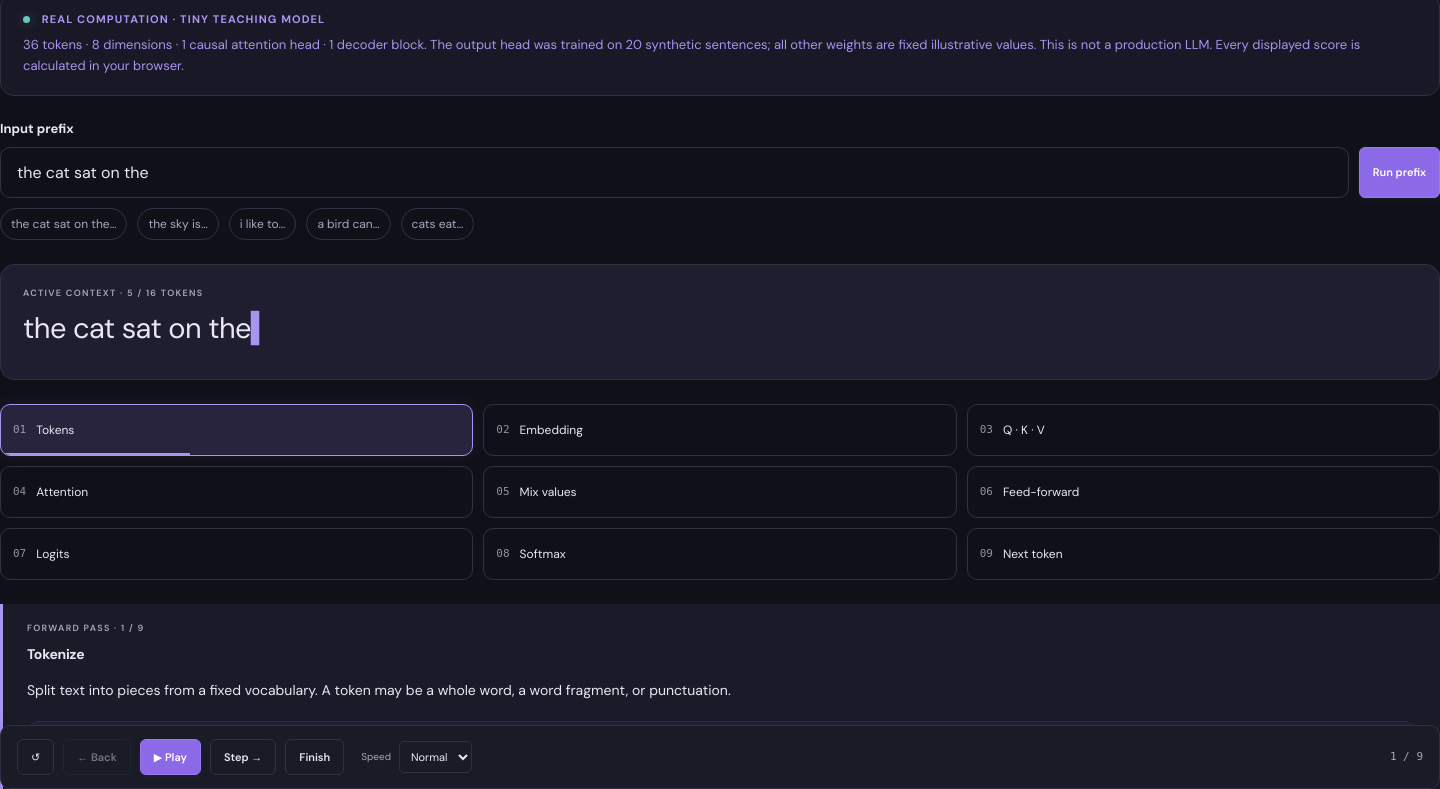
Scenario: prediction finishes, keeps decoding controls visible when changed, appends and restarts
Click the button "Finish".
click(315, 757)  # box [285,739,344,775]
(page scrolled)
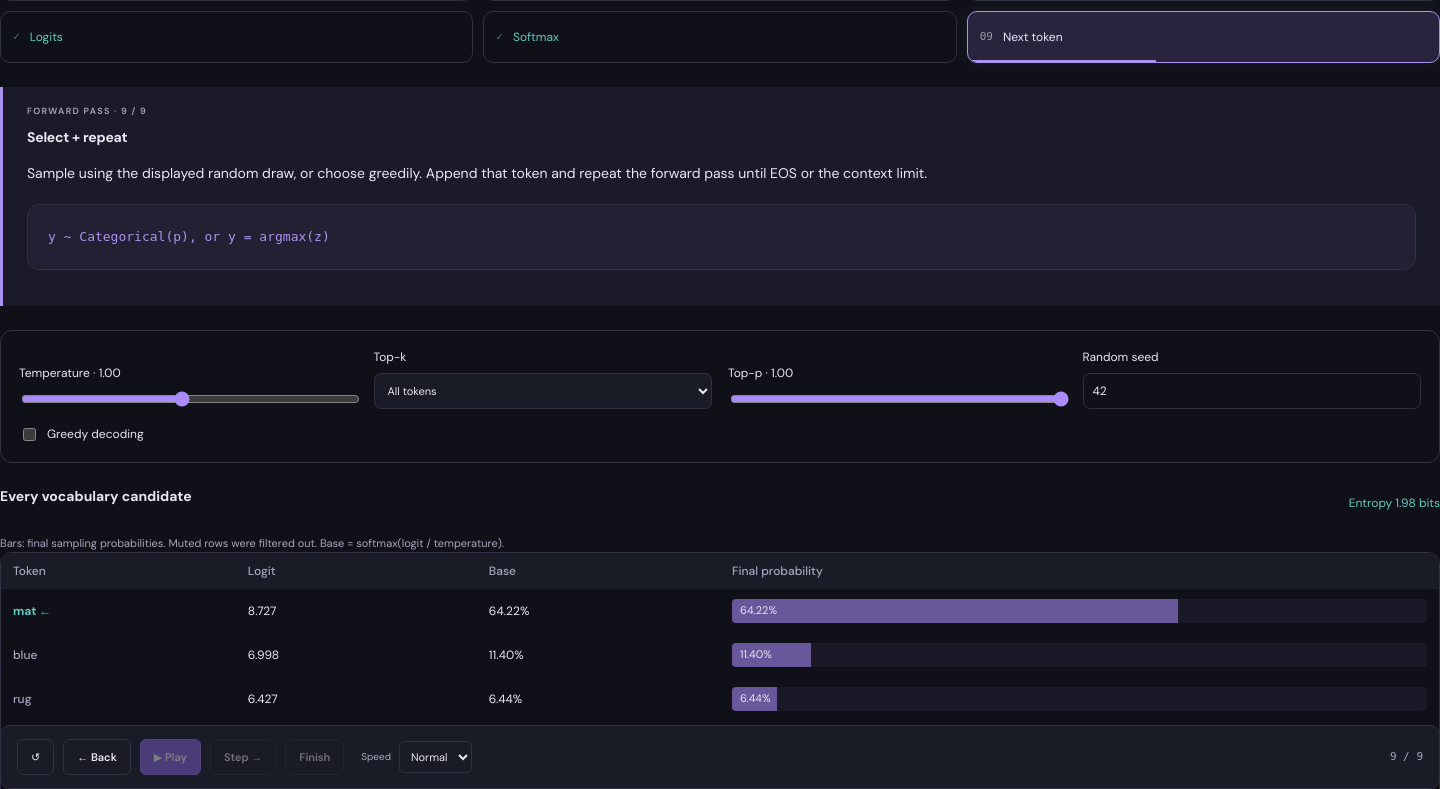
Set the slider labelled "Temperature" to "0.5" at (97, 399), box [21,391,360,407]
(page scrolled)
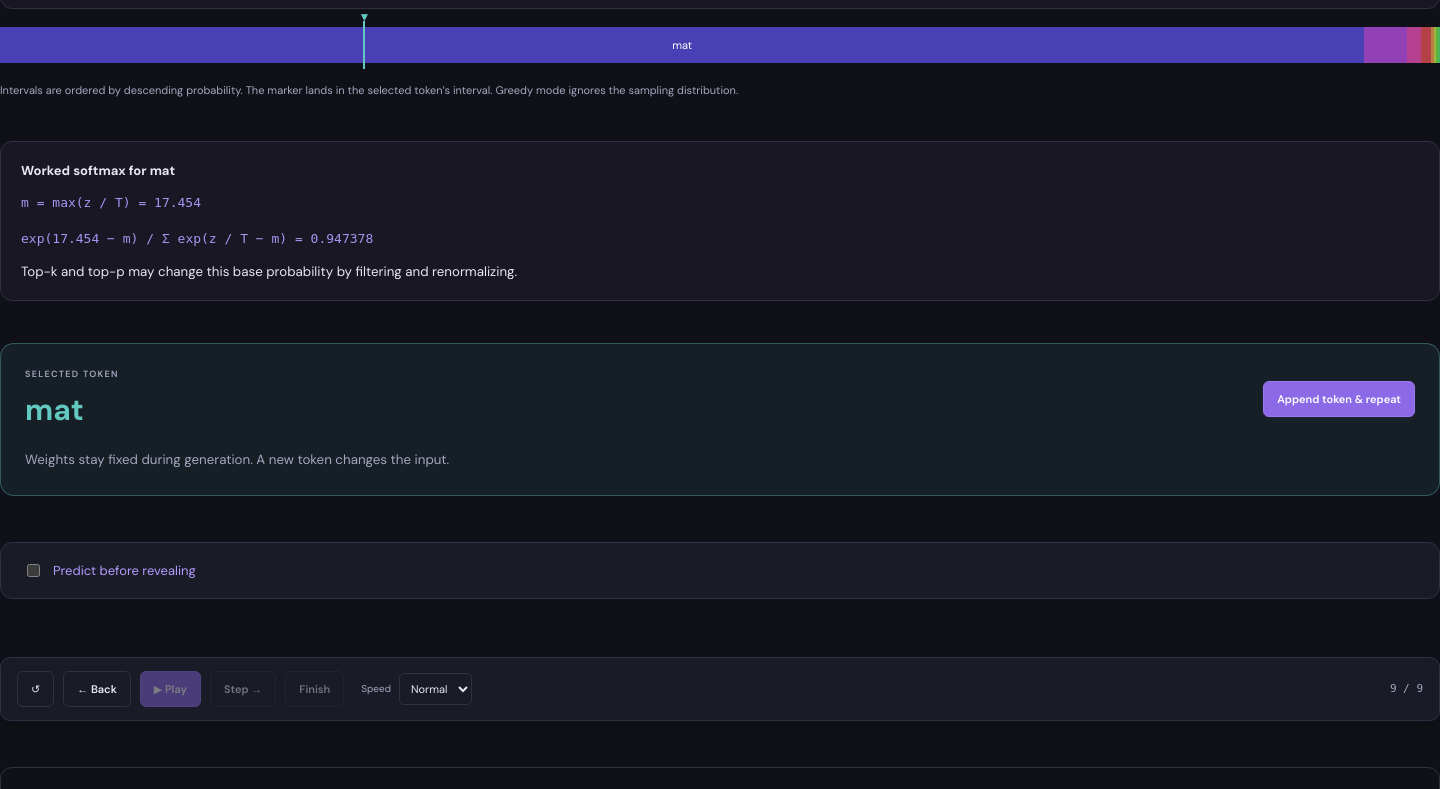
Click the button "Append token & repeat".
click(1339, 399)  # box [1263,381,1415,417]
(page scrolled)
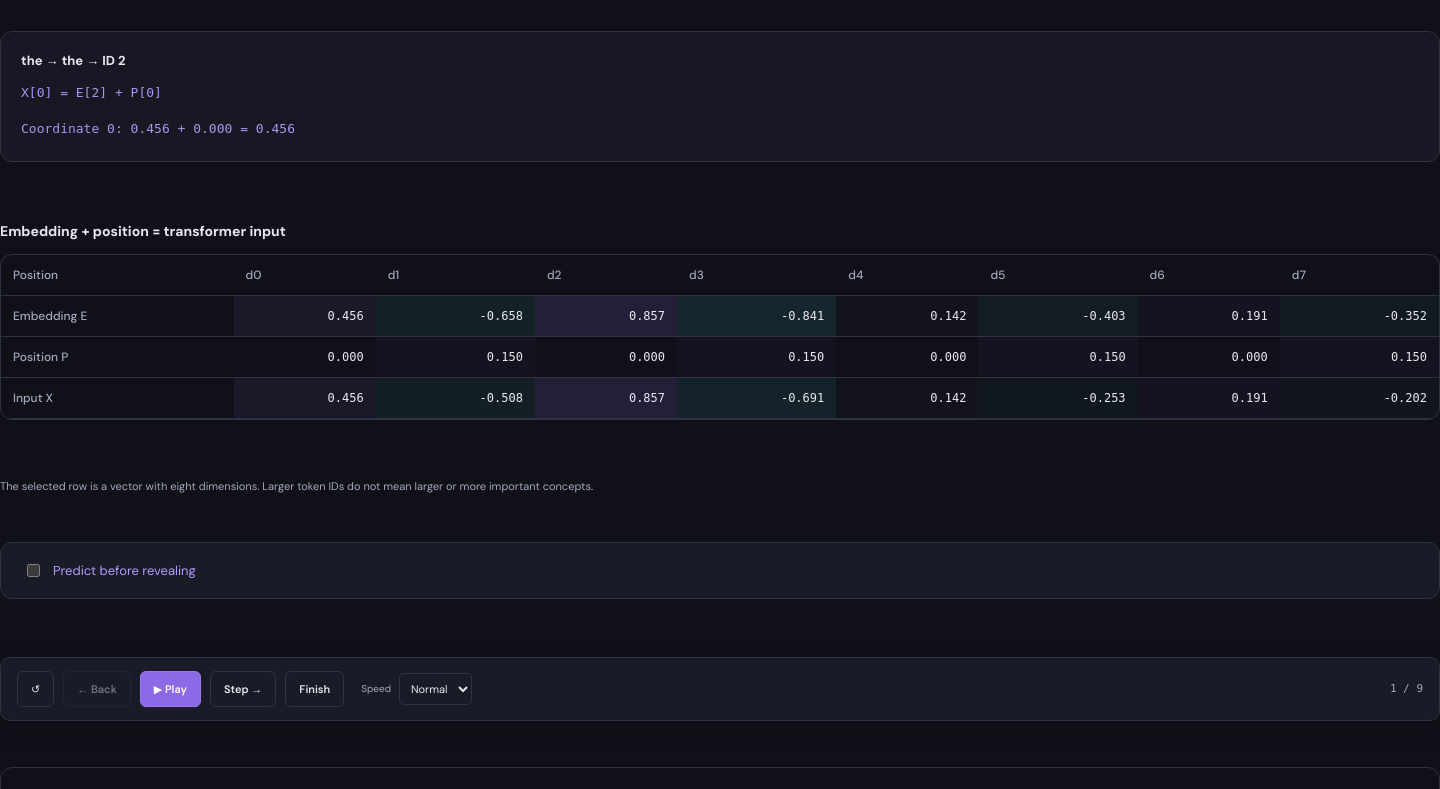
Expected: the button "← Back" is disabled, [63,671,131,707]
